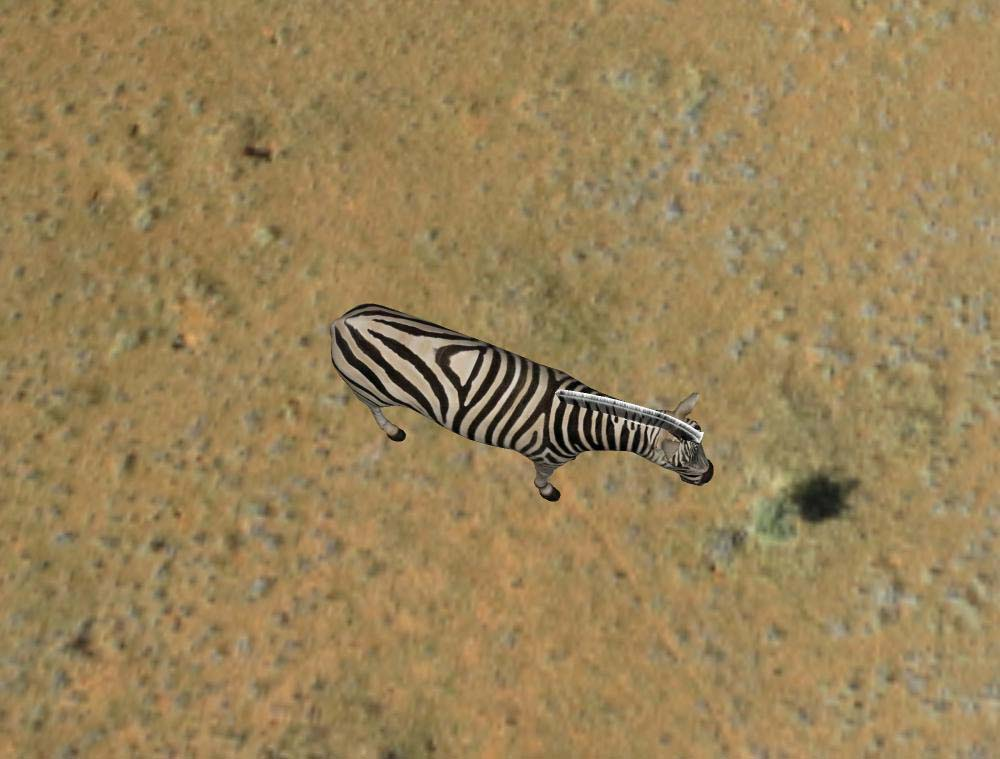zebra: (324, 299, 720, 510)
